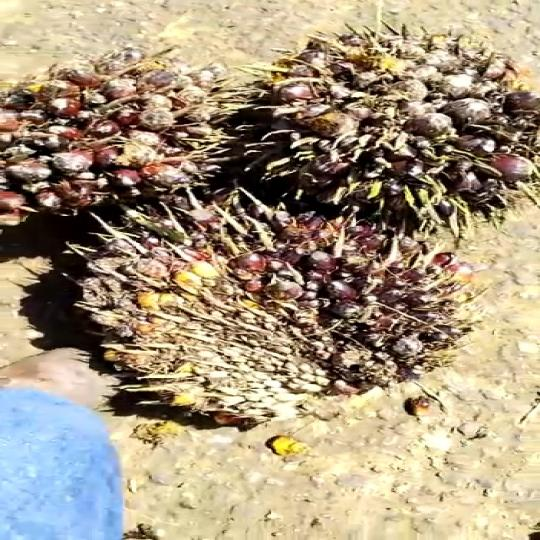kurang masak: (44, 180, 458, 441), (234, 9, 540, 189), (0, 53, 250, 222)
